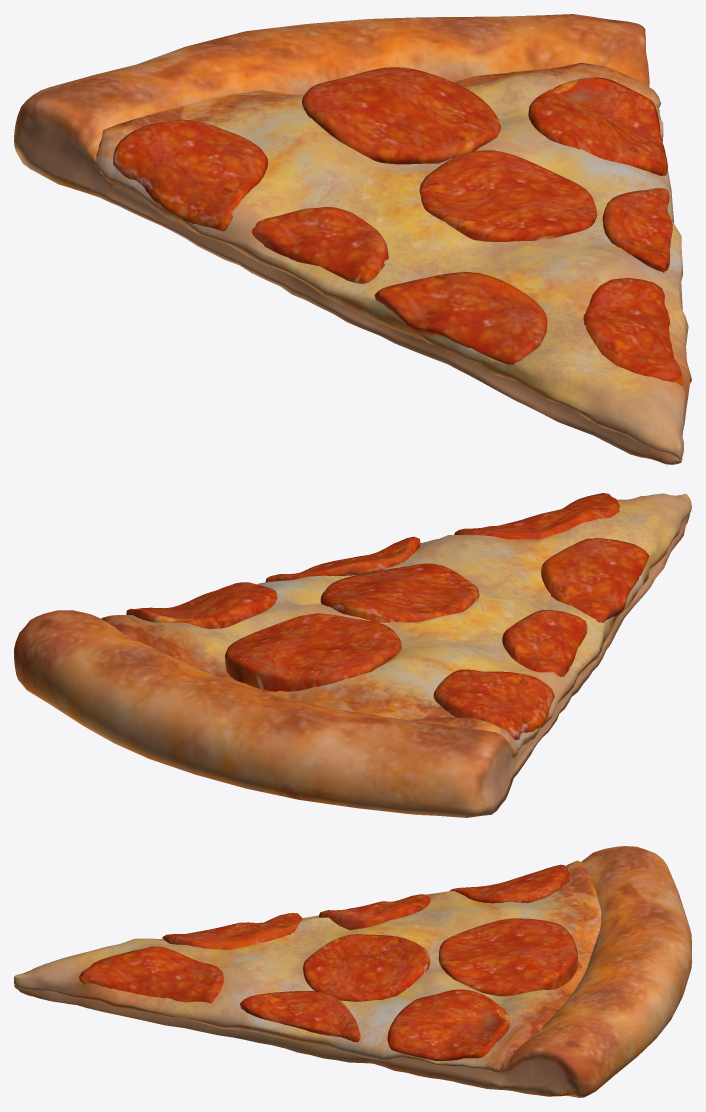
3 renders of one model, top to bottom at view 1: azimuth 30°, elevation 25°; view 2: azimuth 150°, elevation 25°; view 3: azimuth 270°, elevation 25°, orthographic. The views are drawn at different scales.
Visible parts, largest first — view 1: slice_of_pizza.1_1; view 2: slice_of_pizza.1_1; view 3: slice_of_pizza.1_1.
Boxes of the visible parts, box(x1,y1,x2,y2) form: slice_of_pizza.1_1: box(14, 14, 691, 464); slice_of_pizza.1_1: box(14, 493, 691, 817); slice_of_pizza.1_1: box(14, 846, 691, 1097).
Size of the model in its own units: 1.28 by 0.2356 by 1.84.
1 material, 1 textured.
